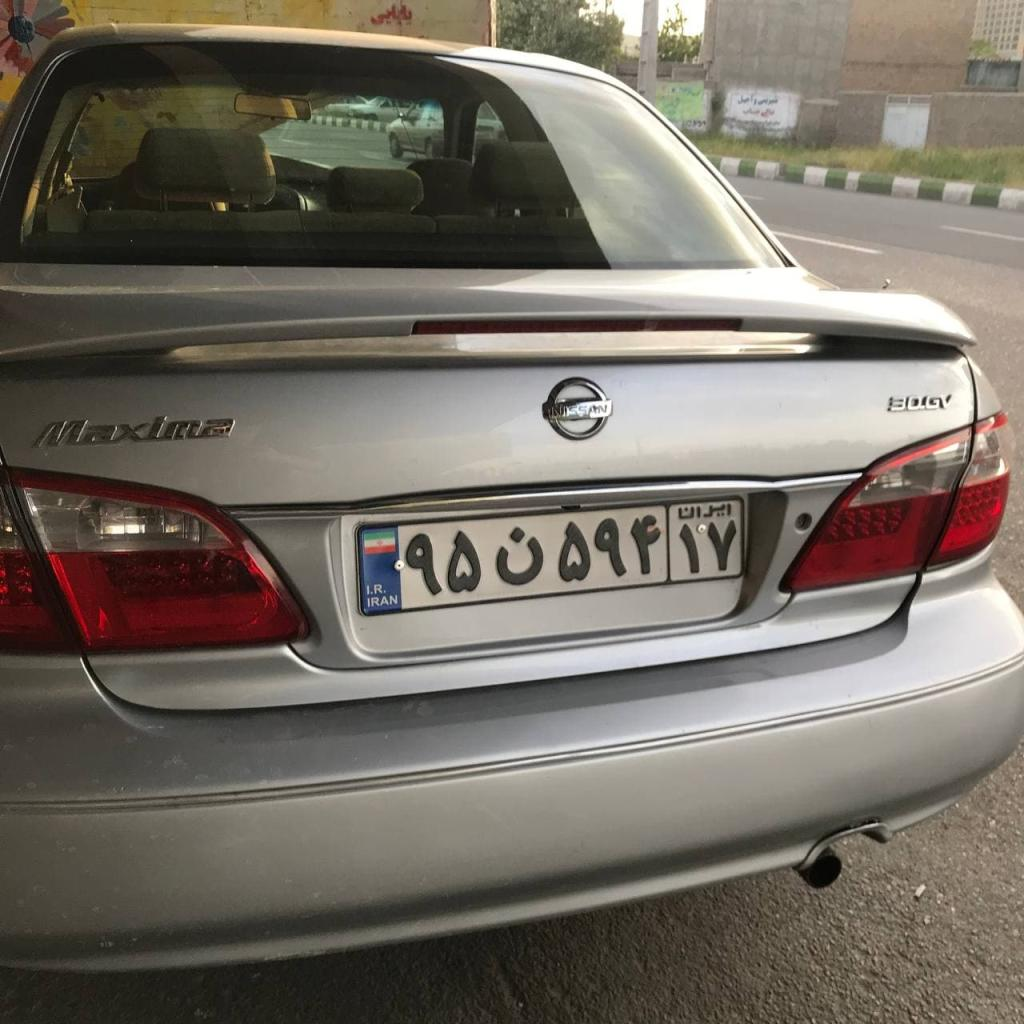Plates: (359, 496, 743, 613)
